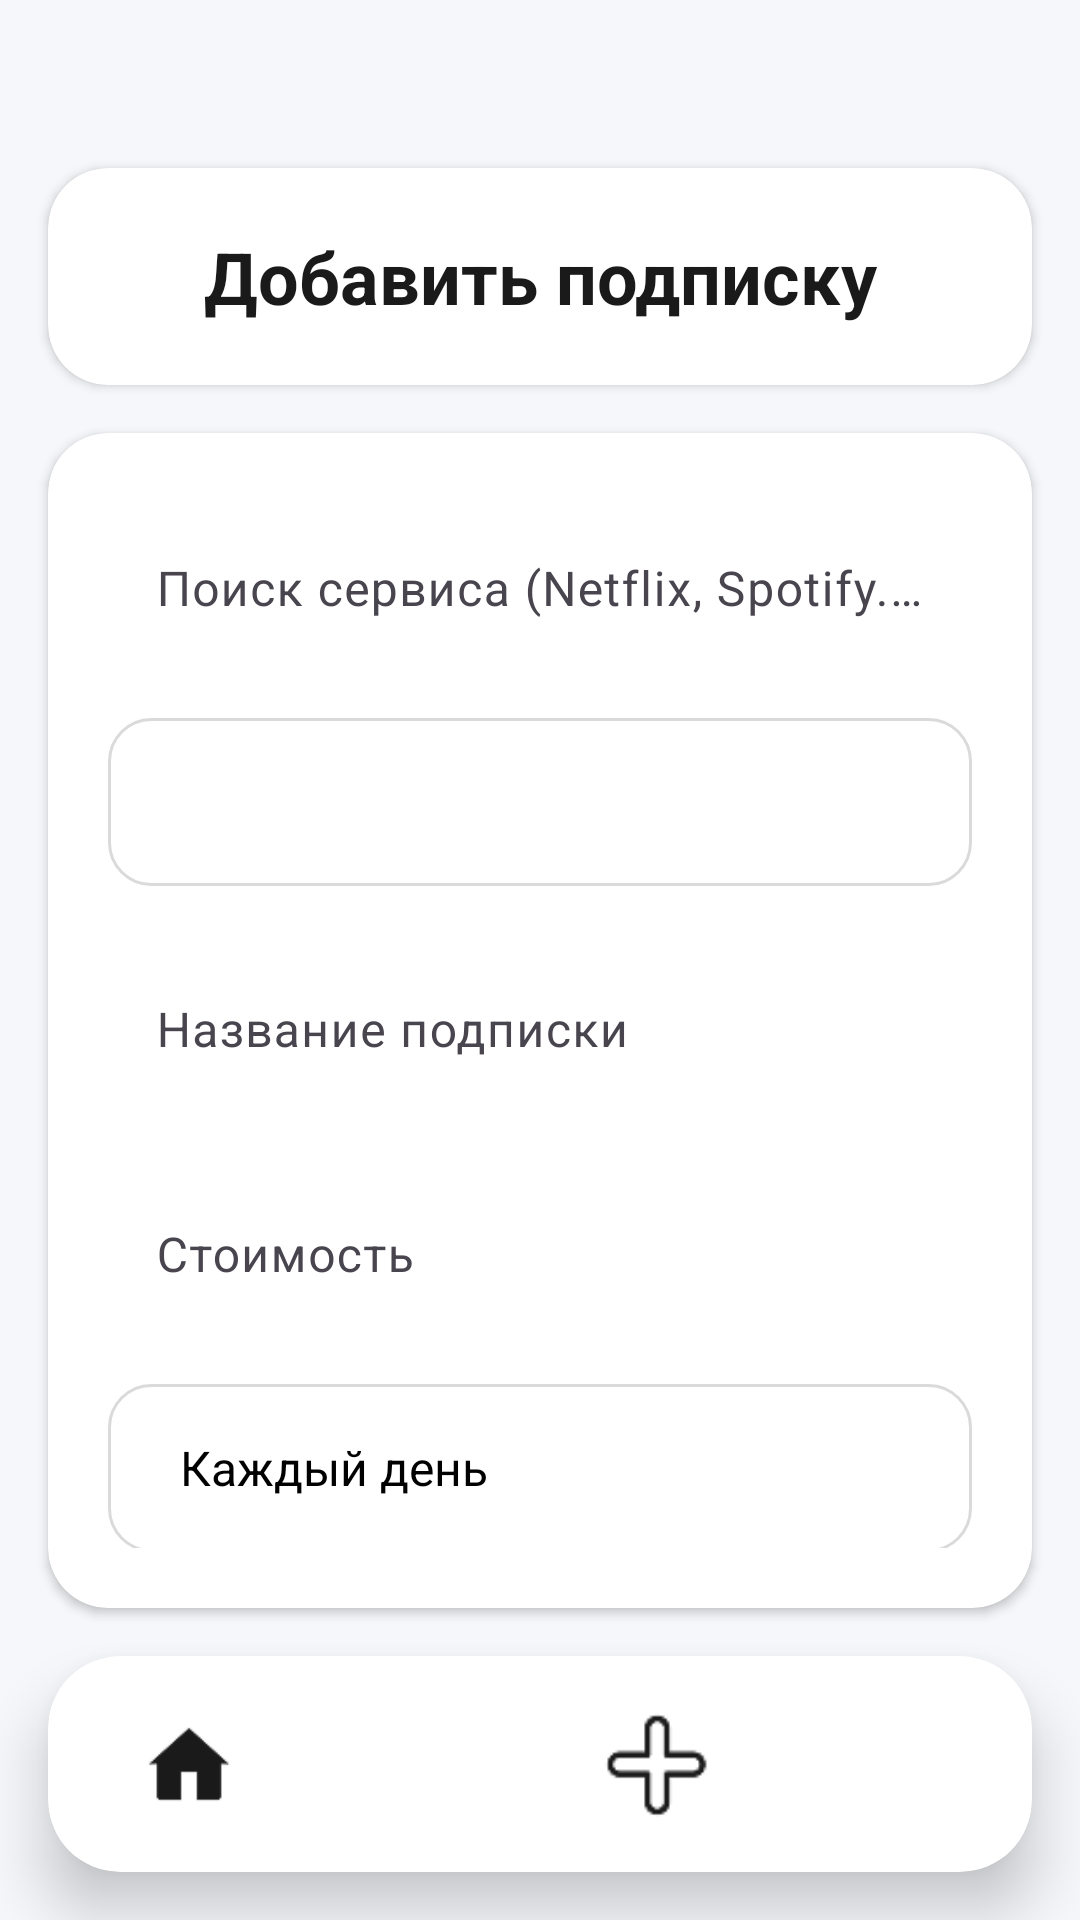

Screen size 1080 x 1920. Icon name, then its box in pixels as detection(x1, y1, x2, y2):
Добавить подписку: detection(607, 1715, 707, 1815)
Дом: detection(149, 1728, 229, 1801)
